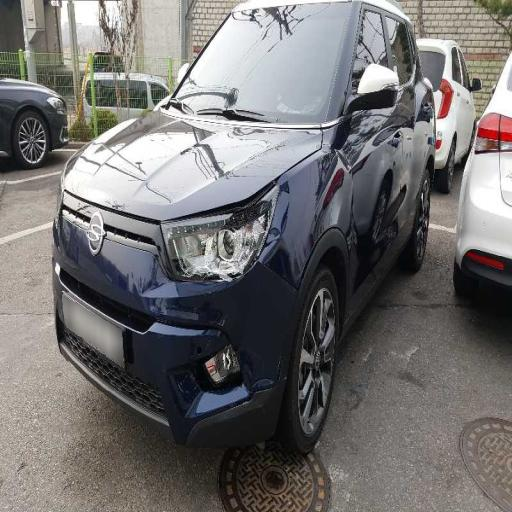normal: (44, 24, 457, 460)
